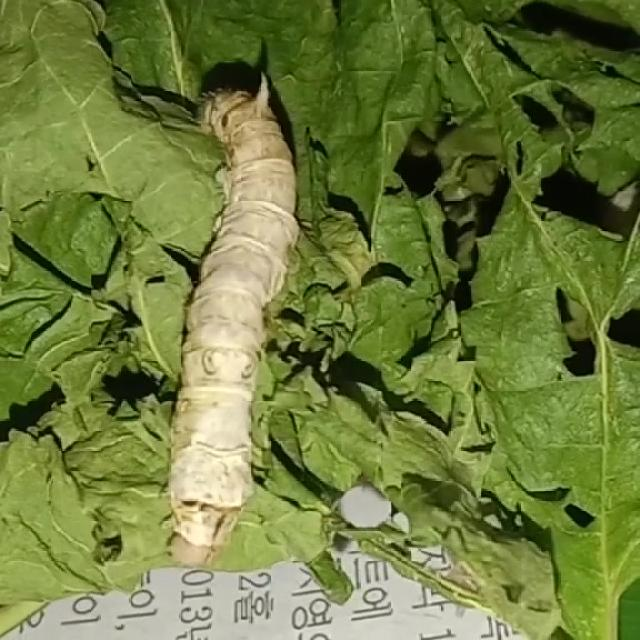Grasserie: (102, 53, 329, 593)
